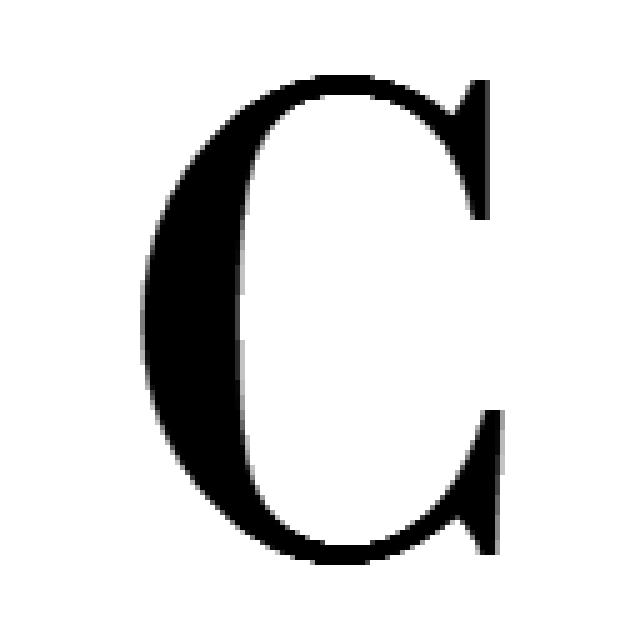C: (140, 75, 505, 565)
